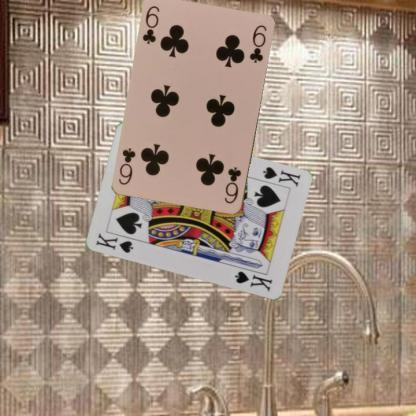6c: (222, 164, 243, 205), (140, 3, 160, 46)
Ks: (92, 230, 134, 255), (259, 164, 301, 188)
